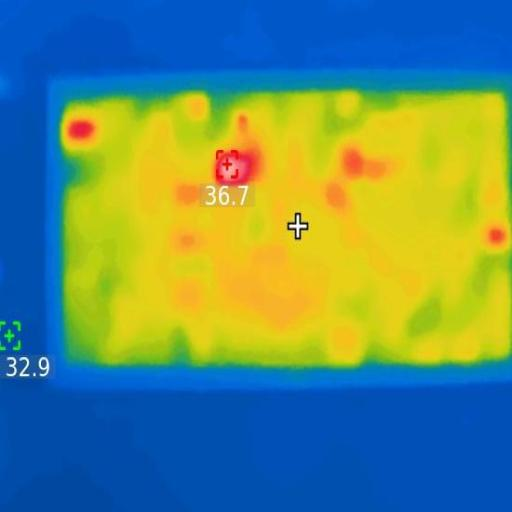hotspot: (216, 147, 258, 188), (66, 116, 97, 146)
